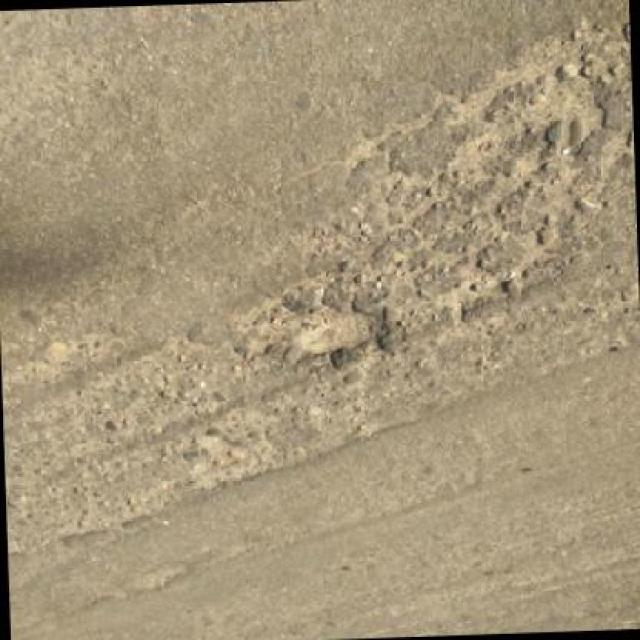pothole: (286, 311, 391, 364)
